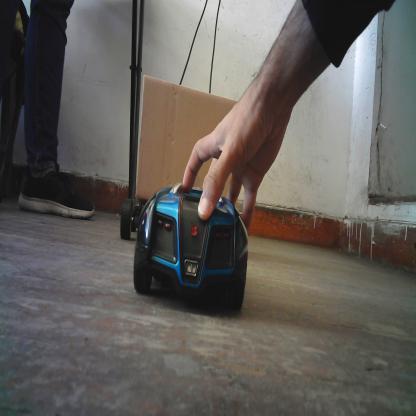LeadTruck: (123, 71, 241, 243)
